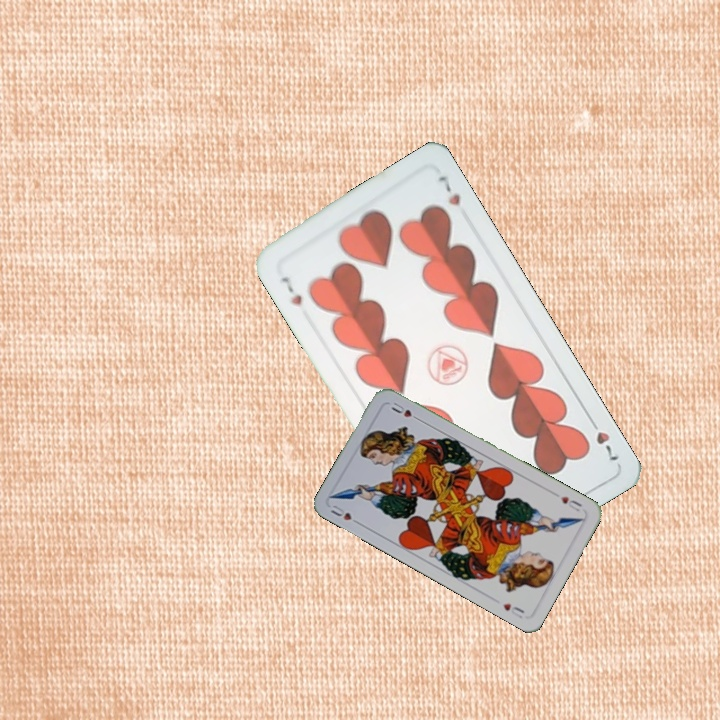H7: (584, 412, 621, 464), (277, 271, 305, 308)
HU: (326, 501, 364, 528), (557, 492, 585, 514)
